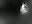person: (21, 4, 29, 16)
